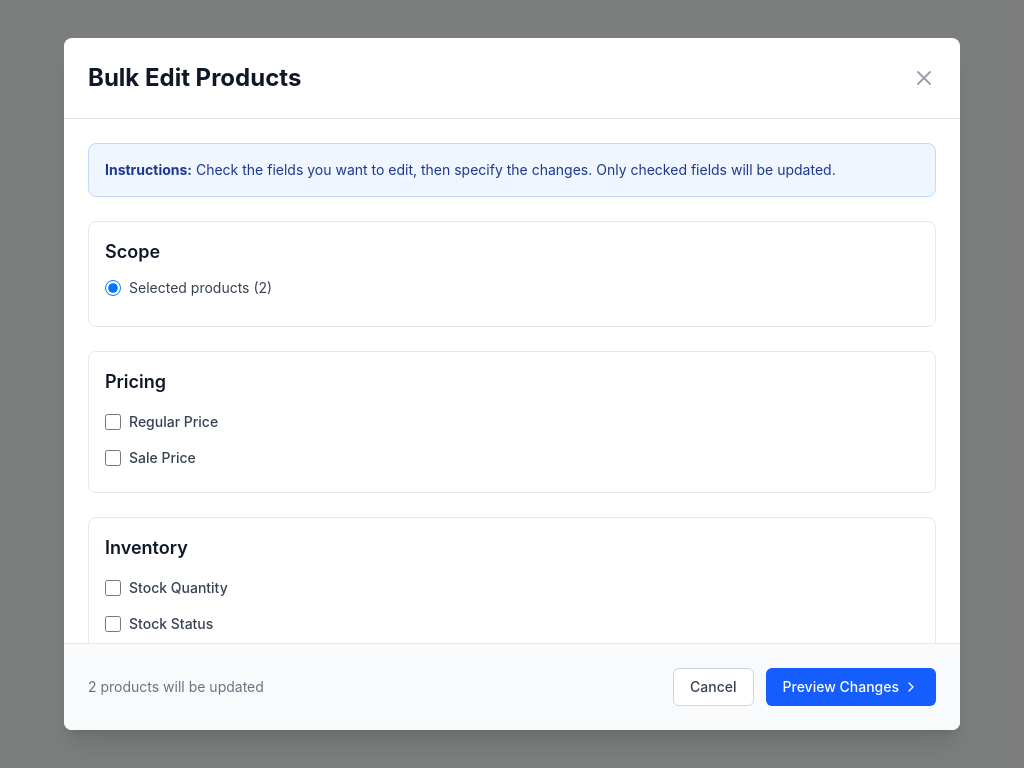
Test: BulkEditModal › Inventory Section › should show stock inputs when checkbox is checked
Click the checkbox labelled "Stock Quantity".
click(113, 588)  # box [105,580,121,596]
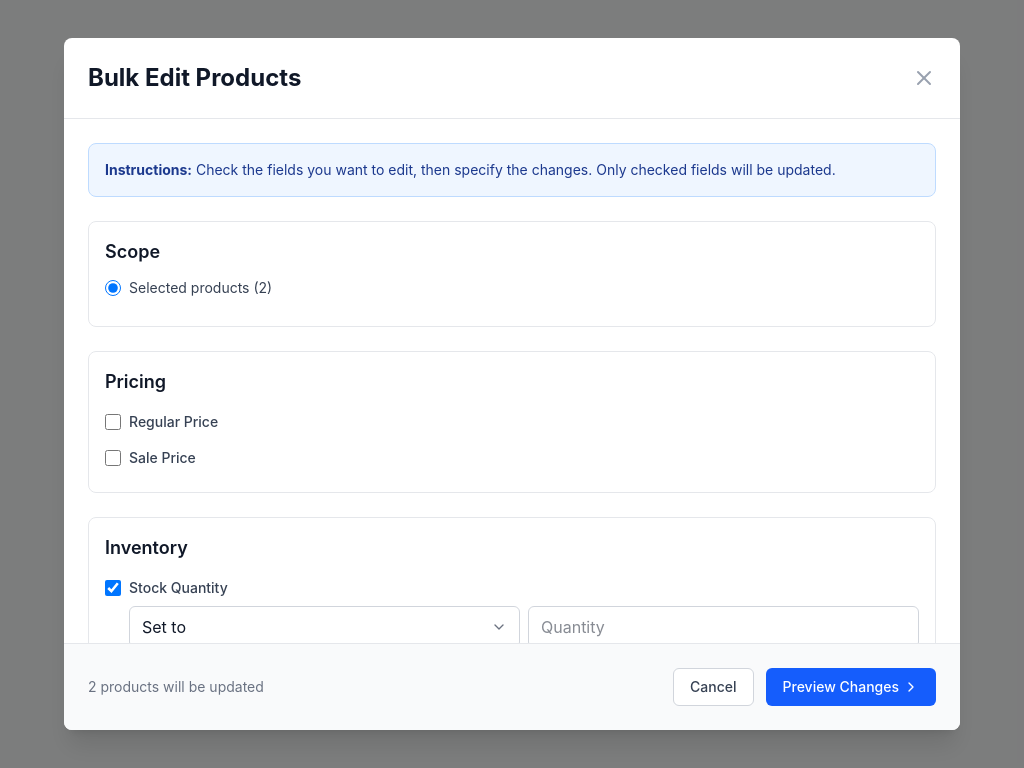
Result: the number field with placeholder "Quantity" is shown at [528,606,919,643]
